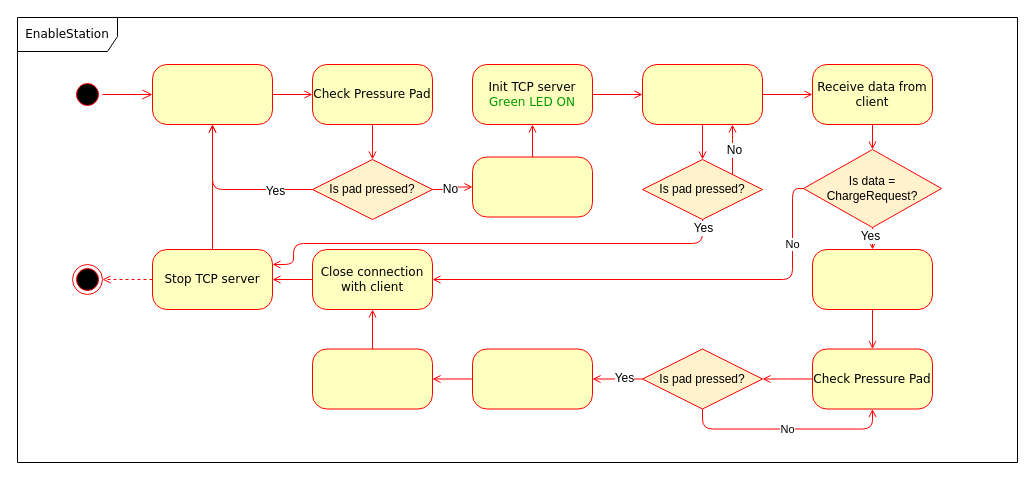
Image size: 1035x480. Some labels were removed from this diagram. The centre of each missing label's shape, as x and y in pixels:
"Send Station ID Yellow LED ON" goes at point 872,279.
"Send STOP command to client" goes at point 532,378.
"Start Red LED ON" goes at point 212,94.
"Turn off transmitter coil" goes at point 532,186.
"Turn on transmitter coil" goes at point 372,378.
"Wait for connections" goes at point 702,94.
